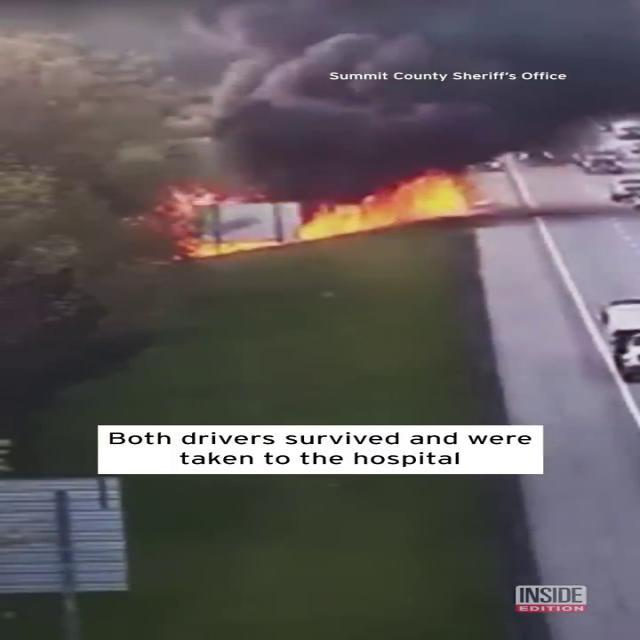Fire: (165, 172, 484, 256)
Smoke: (167, 0, 639, 188)
